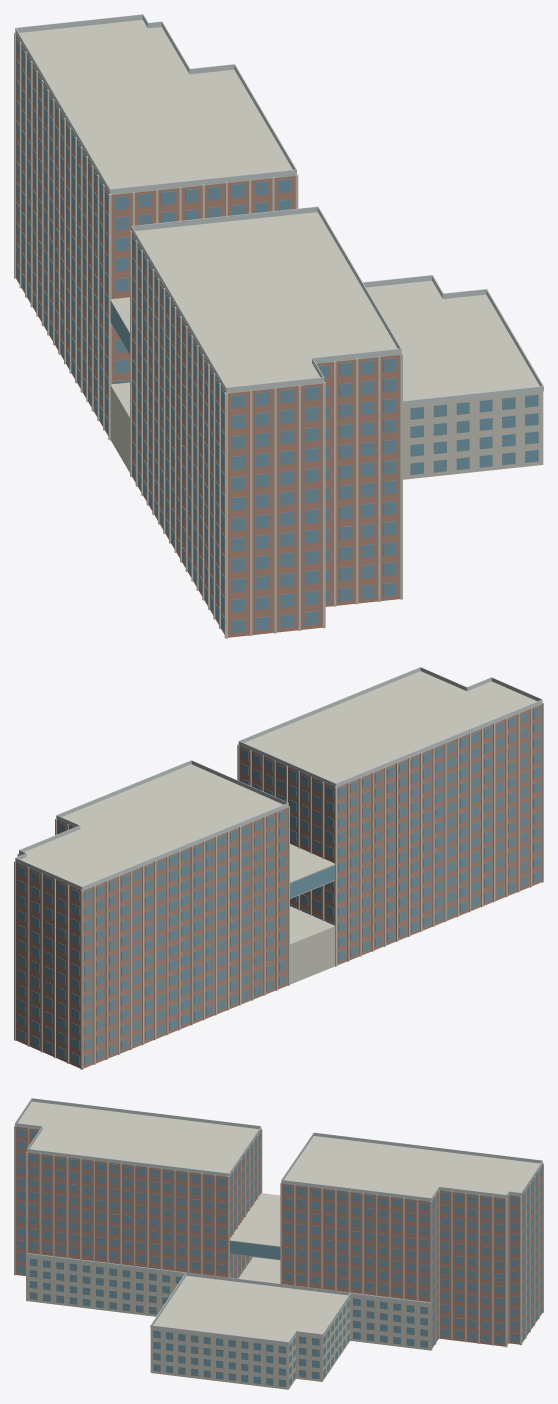
The model's file is blockz.glb.
The picture shows the model from 3 angles, top to bottom: view 1: azimuth 30°, elevation 25°; view 2: azimuth 150°, elevation 25°; view 3: azimuth 270°, elevation 25°; orthographic projection. The views are drawn at different scales.
Visible parts, largest first — view 1: DETAIL_window_batch_Z_blue_glass, Z_south_wing, DETAIL_window_batch_Z_pale_piers, Z_south_roof, Z_north_roof, Z_low_teaching_block, Z_north_wing, Z_courtyard_podium, Z_north_roof_guard_5, Z_south_roof_guard_4, Z_platform_guard_6, Z_north_roof_guard_7 (+2 smaller); view 2: DETAIL_window_batch_Z_blue_glass, Z_north_wing, Z_south_wing, DETAIL_window_batch_Z_pale_piers, Z_south_roof, Z_north_roof, Z_courtyard_podium, Z_north_roof_guard_6, Z_south_roof_guard_3, Z_link_roof, Z_south_roof_guard_5, Z_sky_link (+1 smaller); view 3: DETAIL_window_batch_Z_blue_glass, Z_low_teaching_block, Z_north_wing, Z_south_wing, DETAIL_window_batch_Z_pale_piers, Z_south_roof, Z_north_roof, Z_link_roof, Z_north_roof_guard_6, Z_south_roof_guard_3, Z_courtyard_podium, Z_south_roof_guard_5 (+5 smaller).
Part boxes in pixels (x1,y1,x2,y2): DETAIL_window_batch_Z_blue_glass: (16,39,538,633); Z_south_wing: (132,233,399,637); DETAIL_window_batch_Z_pale_piers: (14,32,402,638); Z_south_roof: (132,212,399,393); Z_north_roof: (16,20,295,195); Z_low_teaching_block: (366,280,543,479); Z_north_wing: (16,35,295,435); Z_courtyard_podium: (110,382,129,472); Z_north_roof_guard_5: (110,169,296,194); Z_south_roof_guard_4: (132,206,317,230); Z_platform_guard_6: (403,386,543,406); Z_north_roof_guard_7: (16,14,142,32); DETAIL_window_batch_Z_blue_glass: (18,707,540,1064); Z_north_wing: (16,808,287,1068); Z_south_wing: (239,704,541,965); DETAIL_window_batch_Z_pale_piers: (14,703,543,1069); Z_south_roof: (239,671,541,787); Z_north_roof: (16,764,287,890); Z_courtyard_podium: (290,906,334,984); Z_north_roof_guard_6: (82,803,288,890); Z_south_roof_guard_3: (336,699,542,787); Z_link_roof: (290,844,334,883); Z_south_roof_guard_5: (239,667,420,742); Z_sky_link: (290,865,334,898); DETAIL_window_batch_Z_blue_glass: (18,1128,542,1386); Z_low_teaching_block: (27,1256,430,1389); Z_north_wing: (282,1165,542,1347); Z_south_wing: (15,1127,260,1278); DETAIL_window_batch_Z_pale_piers: (14,1125,543,1350); Z_south_roof: (15,1101,260,1176); Z_north_roof: (282,1136,541,1201); Z_link_roof: (230,1193,280,1247); Z_north_roof_guard_6: (314,1132,542,1163); Z_south_roof_guard_3: (32,1098,260,1128); Z_courtyard_podium: (238,1257,280,1283); Z_south_roof_guard_5: (27,1149,228,1176).
Size of the model in its own units: 97.12 by 49 by 155.
